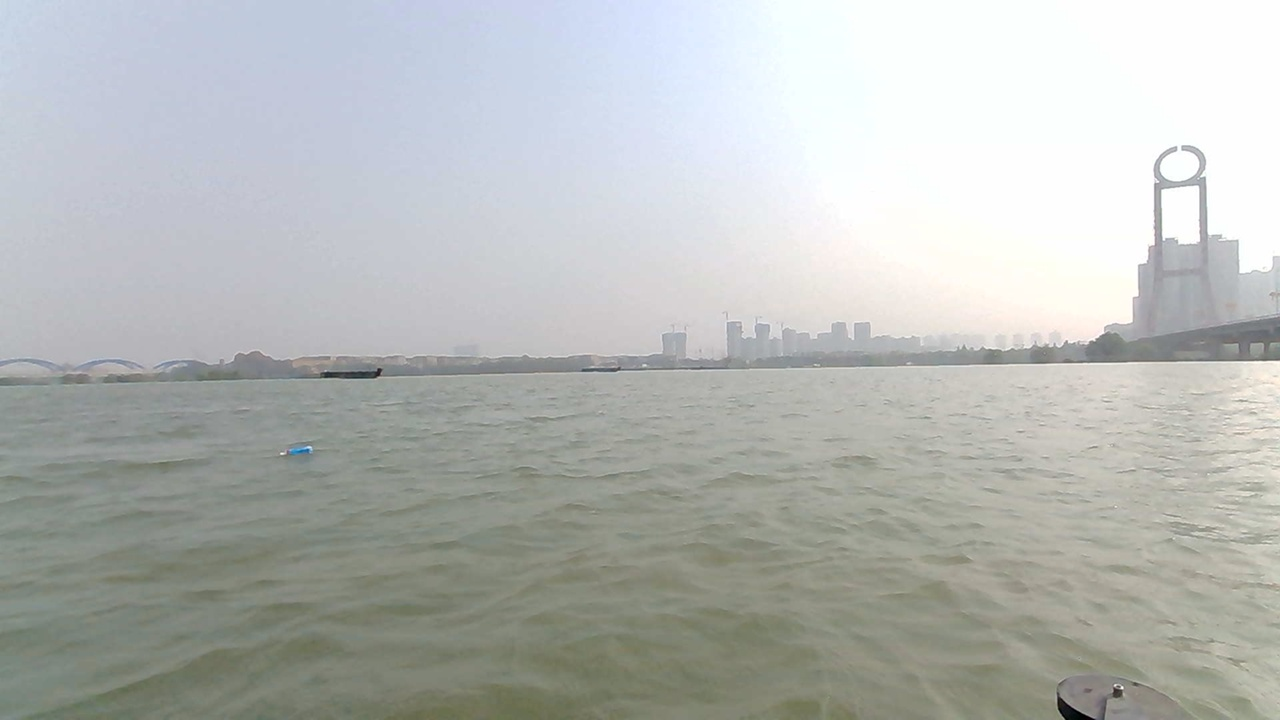bottle: (281, 444, 322, 464)
